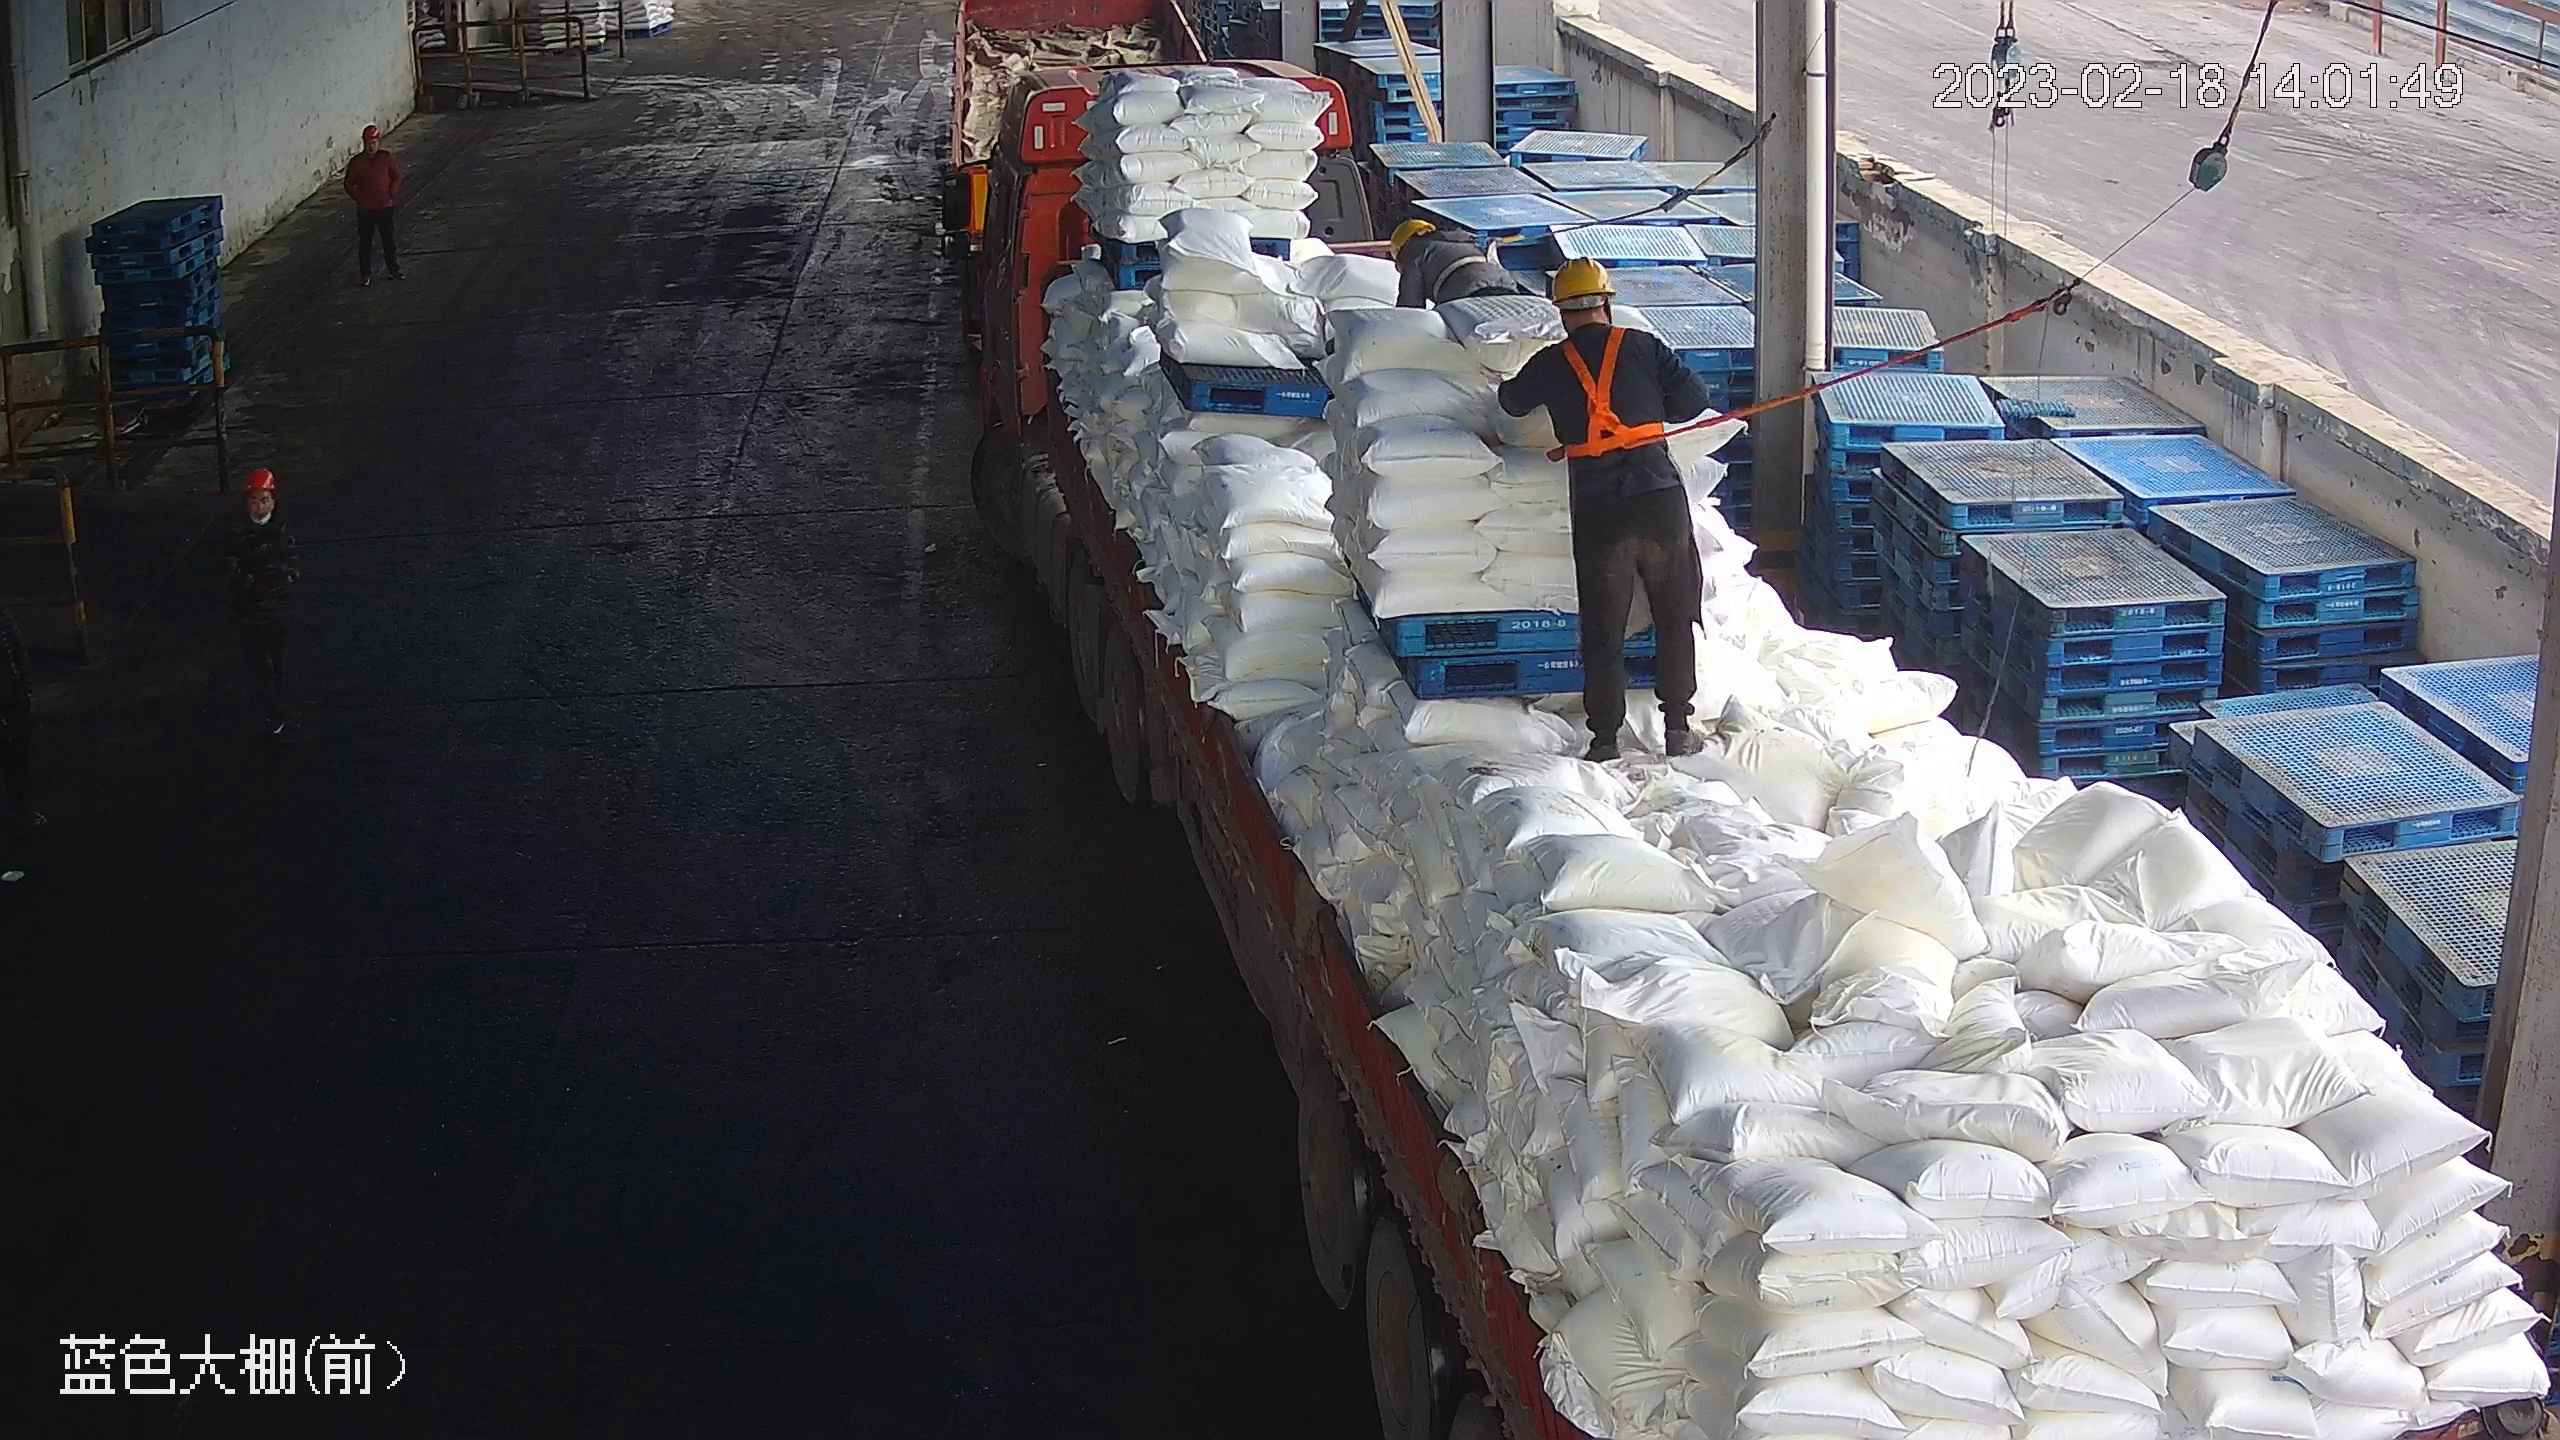belt: (1549, 323, 1666, 461), (1427, 217, 1499, 280)
head: (1514, 254, 1680, 397), (228, 465, 301, 568), (1393, 213, 1501, 275), (347, 119, 400, 173)
helmet: (1546, 255, 1615, 304), (1385, 214, 1439, 261), (244, 463, 274, 486), (361, 120, 387, 143)
people: (1500, 257, 1717, 764), (229, 464, 309, 747), (340, 120, 409, 287)
truck: (936, 57, 2556, 1439)
